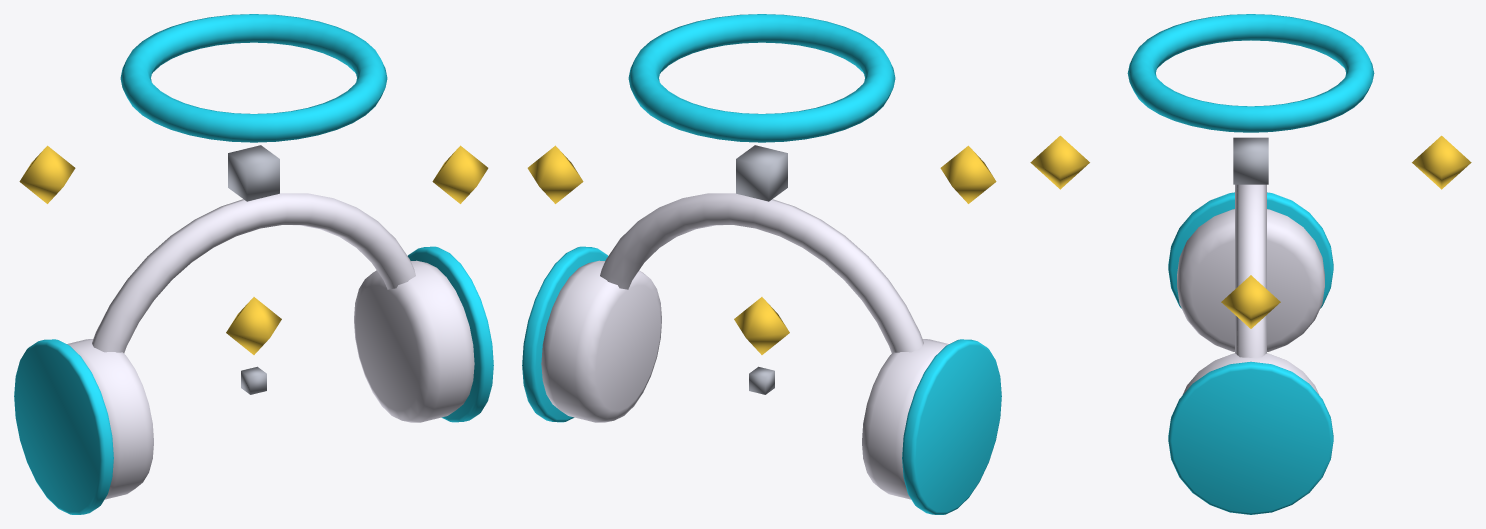
Rendered from Celestial.fbx.
3 views of the same model, side by side, from view 1: azimuth 30°, elevation 25°; view 2: azimuth 150°, elevation 25°; view 3: azimuth 270°, elevation 25° (orthographic). The views are drawn at different scales.
Visible parts, largest first — view 1: White, Spin_Float_Halo, Pulse_Ring-1, Pulse_Ring1, FXPoint_Stars, Orbit_Star0, Orbit_Star1, Orbit_Star2, KitOrigin; view 2: White, Spin_Float_Halo, Pulse_Ring-1, Pulse_Ring1, FXPoint_Stars, Orbit_Star0, Orbit_Star2, Orbit_Star1, KitOrigin; view 3: Pulse_Ring1, White, Spin_Float_Halo, Pulse_Ring-1, FXPoint_Stars, Orbit_Star0, Orbit_Star1, Orbit_Star2.
Part boxes in pixels (<box>): White: <box>67,193,474,499</box>; Spin_Float_Halo: <box>120,14,387,142</box>; Pulse_Ring-1: <box>14,339,113,514</box>; Pulse_Ring1: <box>408,246,493,422</box>; FXPoint_Stars: <box>228,145,279,201</box>; Orbit_Star0: <box>432,145,488,203</box>; Orbit_Star1: <box>19,145,75,203</box>; Orbit_Star2: <box>226,297,281,354</box>; KitOrigin: <box>241,366,266,394</box>; White: <box>541,193,948,499</box>; Spin_Float_Halo: <box>628,14,895,142</box>; Pulse_Ring-1: <box>902,339,1001,514</box>; Pulse_Ring1: <box>522,246,607,422</box>; FXPoint_Stars: <box>736,145,787,201</box>; Orbit_Star0: <box>527,145,583,203</box>; Orbit_Star2: <box>940,145,996,203</box>; Orbit_Star1: <box>734,297,789,354</box>; KitOrigin: <box>749,366,774,394</box>; Pulse_Ring1: <box>1168,361,1333,514</box>; White: <box>1177,184,1324,395</box>; Spin_Float_Halo: <box>1127,14,1374,132</box>; Pulse_Ring-1: <box>1168,192,1333,308</box>; FXPoint_Stars: <box>1233,137,1268,184</box>; Orbit_Star0: <box>1221,275,1280,328</box>; Orbit_Star1: <box>1412,135,1471,189</box>; Orbit_Star2: <box>1030,135,1089,189</box>.
Bounding box in the file's own units: 2.61 × 2.3 × 2.51.
